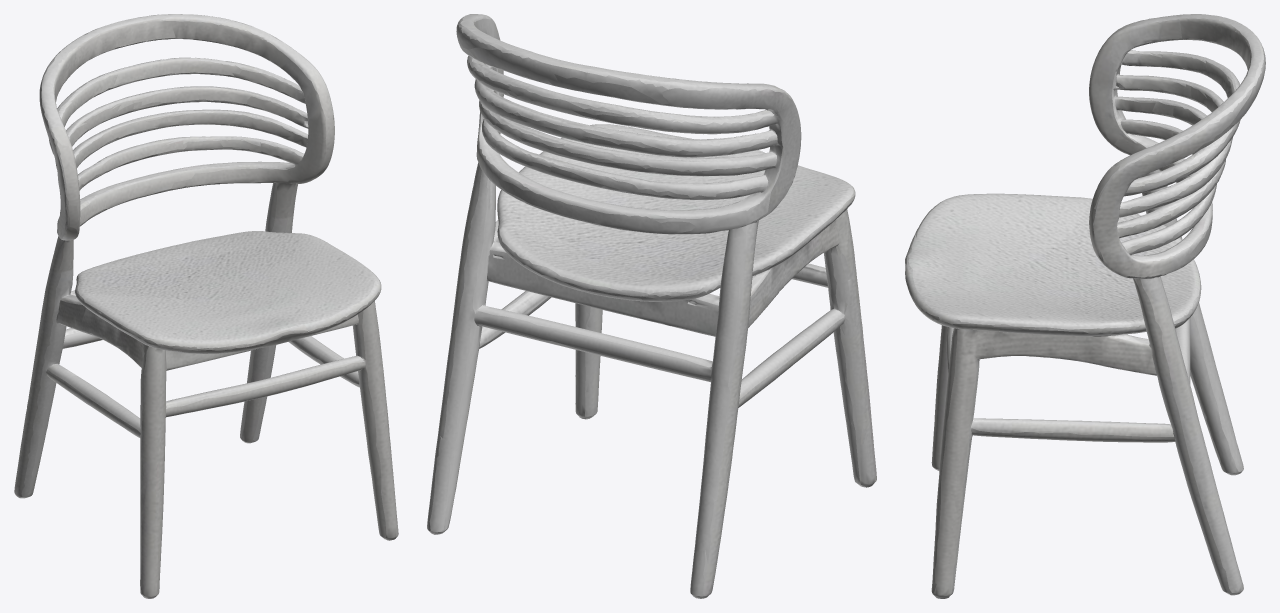
The model's file is L_DINING_CHAIR.japandi.glb.
3 views of the same model, side by side, from view 1: azimuth 30°, elevation 25°; view 2: azimuth 150°, elevation 25°; view 3: azimuth 270°, elevation 25° (orthographic). The views are drawn at different scales.
Visible parts, largest first — view 1: geometry_0; view 2: geometry_0; view 3: geometry_0.
Boxes of the visible parts, x1,y1,x2,y2 form: geometry_0: (14, 14, 398, 598); geometry_0: (427, 14, 876, 598); geometry_0: (905, 14, 1265, 598).
Bounding box in the file's own units: 0.5285 × 0.82 × 0.5611.
Materials: 1 (1 with a texture image).
